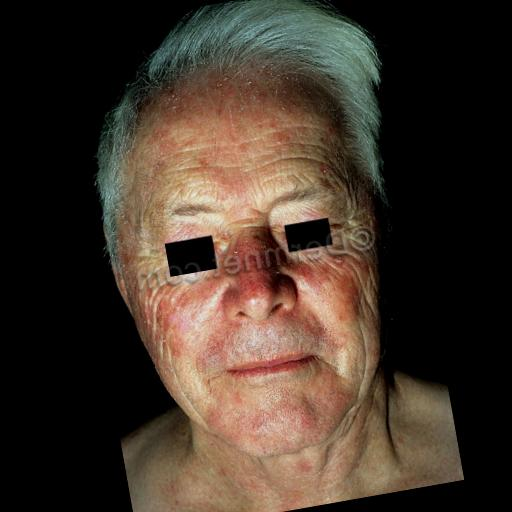Skin_Lesion: (152, 98, 230, 178), (232, 86, 314, 162), (220, 240, 290, 310), (336, 255, 374, 342), (192, 316, 238, 368), (137, 292, 190, 332), (286, 371, 320, 433), (288, 258, 334, 300), (236, 402, 279, 446), (294, 452, 312, 480), (166, 331, 183, 360)
